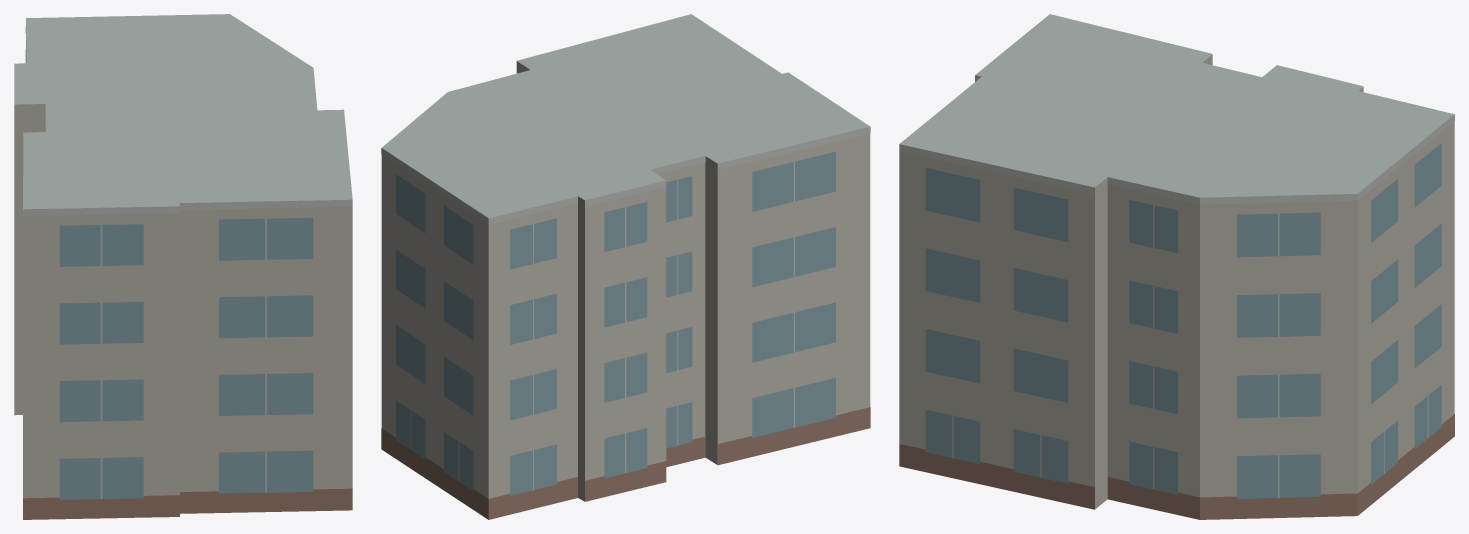
The model's file is survey-upis-32771275.glb.
The picture shows the model from 3 angles, left to right: view 1: azimuth 30°, elevation 25°; view 2: azimuth 150°, elevation 25°; view 3: azimuth 270°, elevation 25°; orthographic projection. The views are drawn at different scales.
Visible parts, largest first — view 1: survey-upis-32771275.tmp; view 2: survey-upis-32771275.tmp; view 3: survey-upis-32771275.tmp.
Boxes of the visible parts, x1,y1,x2,y2 form: survey-upis-32771275.tmp: (14, 14, 352, 519); survey-upis-32771275.tmp: (381, 14, 870, 519); survey-upis-32771275.tmp: (899, 14, 1454, 519).
Size of the model in its own units: 13.77 by 11.25 by 17.59.
